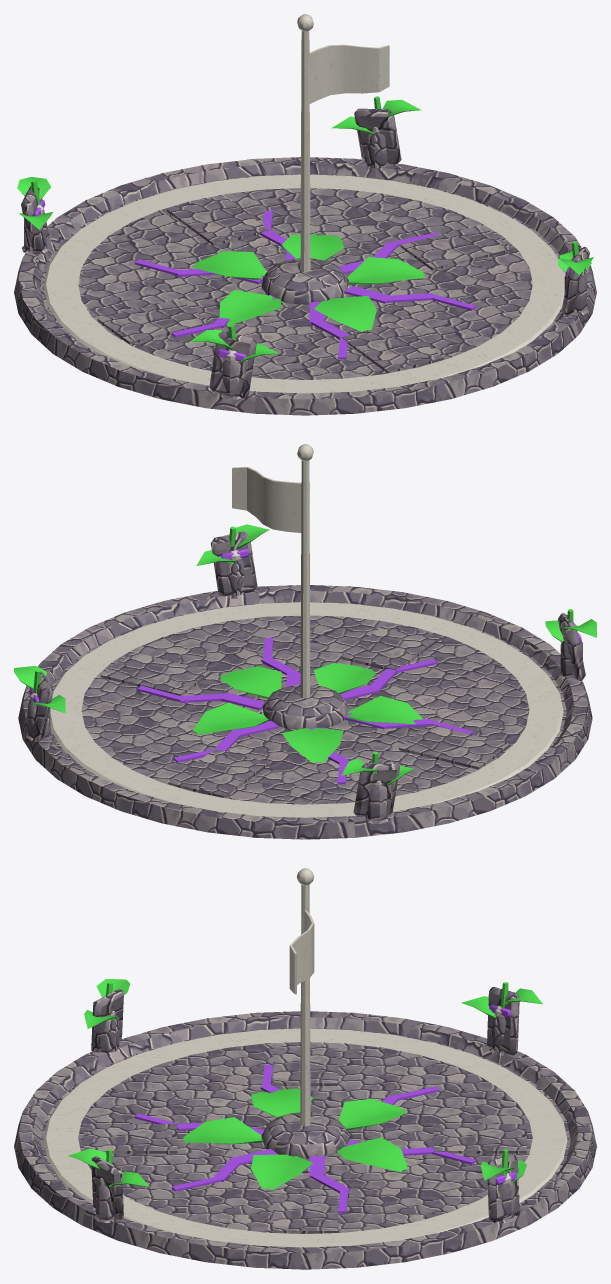
Rendered from capture_point.glb.
The picture shows the model from 3 angles, top to bottom: view 1: azimuth 30°, elevation 25°; view 2: azimuth 150°, elevation 25°; view 3: azimuth 270°, elevation 25°; orthographic projection.
Parts seen in each view (by area): view 1: Base, State_Neutral, State_Plants, State_Zombies, Flag, Pole; view 2: Base, State_Neutral, State_Plants, State_Zombies, Flag, Pole; view 3: Base, State_Neutral, State_Plants, State_Zombies, Pole, Flag.
Part boxes in pixels (left/top/right/bottom): Base: left=14, top=157, right=596, bottom=415; State_Neutral: left=22, top=127, right=589, bottom=399; State_Plants: left=17, top=96, right=593, bottom=363; State_Zombies: left=21, top=108, right=589, bottom=398; Flag: left=309, top=44, right=389, bottom=103; Pole: left=297, top=14, right=313, bottom=272; Base: left=18, top=585, right=592, bottom=839; State_Neutral: left=26, top=550, right=582, bottom=823; State_Plants: left=14, top=524, right=596, bottom=784; State_Zombies: left=25, top=531, right=585, bottom=817; Flag: left=232, top=467, right=301, bottom=532; Pole: left=297, top=444, right=313, bottom=698; Base: left=14, top=1011, right=596, bottom=1269; State_Neutral: left=43, top=1005, right=567, bottom=1247; State_Plants: left=68, top=979, right=542, bottom=1190; State_Zombies: left=91, top=987, right=519, bottom=1222; Pole: left=297, top=868, right=313, bottom=1126; Flag: left=289, top=910, right=314, bottom=994.
Size of the model in its own units: 10 by 5.25 by 10.
Materials: 4 (2 with a texture image).
